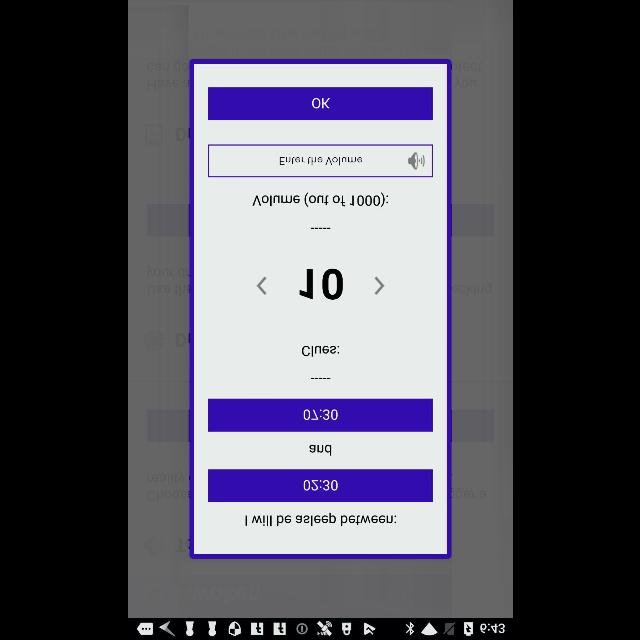icon: (256, 277, 266, 295), (374, 277, 384, 295)
input: (208, 144, 432, 178)
panel: (189, 59, 451, 559)
text: (244, 512, 396, 526), (251, 193, 387, 207), (300, 269, 342, 299), (302, 346, 338, 356), (310, 444, 330, 456)
textbutton: (208, 88, 432, 120), (208, 399, 432, 431), (208, 470, 432, 502)
uppertaskbar: (128, 617, 512, 639)
